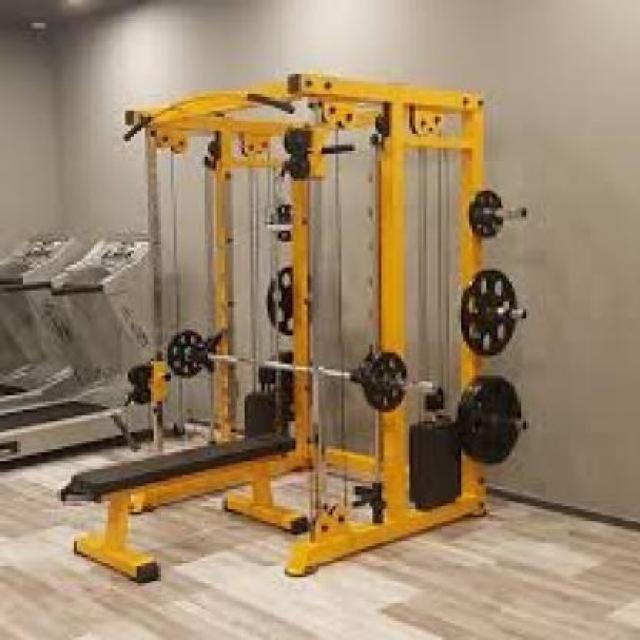smith machine: (123, 73, 535, 582)
